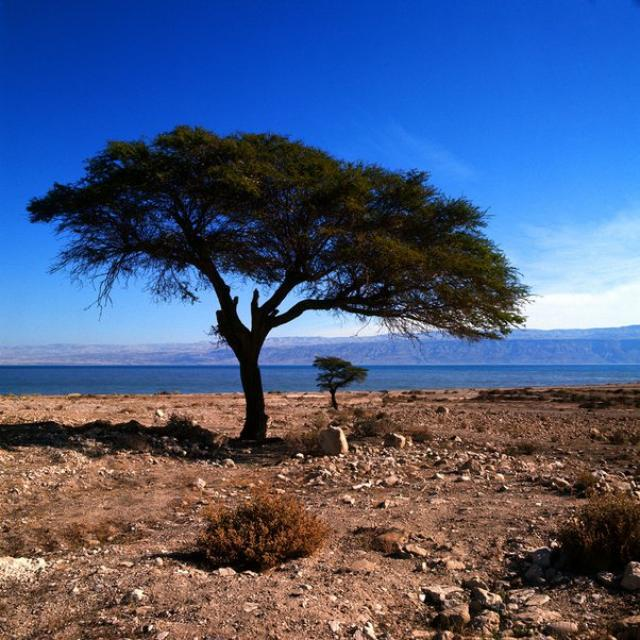Acacia: (20, 100, 532, 444)
